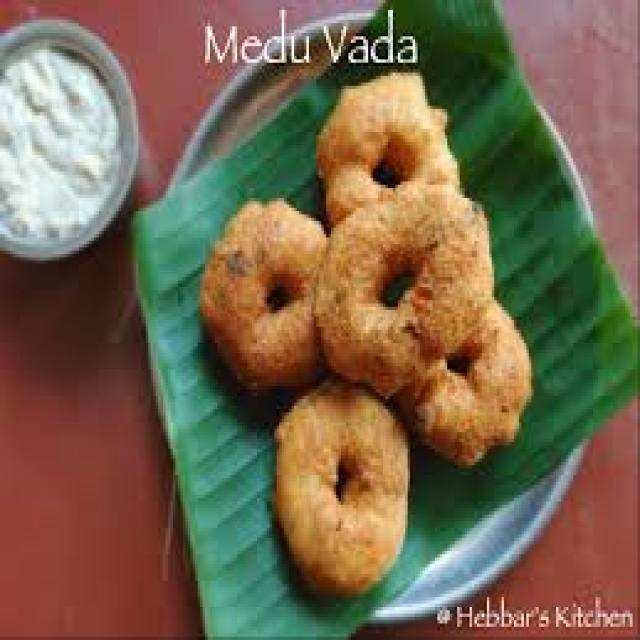MEDU VADA: (315, 187, 492, 399), (280, 385, 412, 586), (196, 201, 326, 385), (319, 68, 456, 218), (420, 303, 540, 468)
